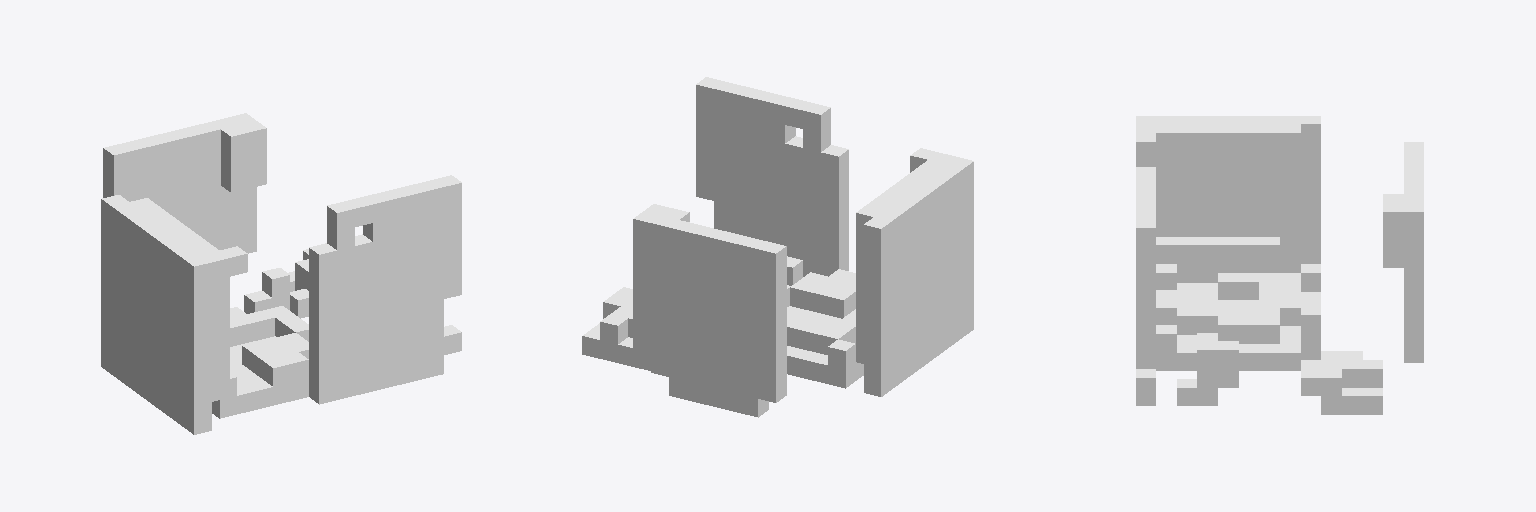
File: Block01.obj
3 renders of one model, left to right at view 1: azimuth 30°, elevation 25°; view 2: azimuth 150°, elevation 25°; view 3: azimuth 270°, elevation 25°, orthographic.
Parts seen in each view (by area): view 1: object 1; view 2: object 1; view 3: object 1.
Part boxes in pixels (bbox=[...]): object 1: bbox=[101, 113, 461, 434]; object 1: bbox=[582, 77, 973, 417]; object 1: bbox=[1136, 116, 1423, 414].
Size of the model in its own units: 1.5 by 1 by 1.4.